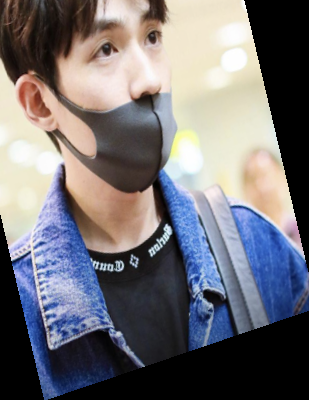mask_weared_incorrect: (1, 3, 180, 193)
